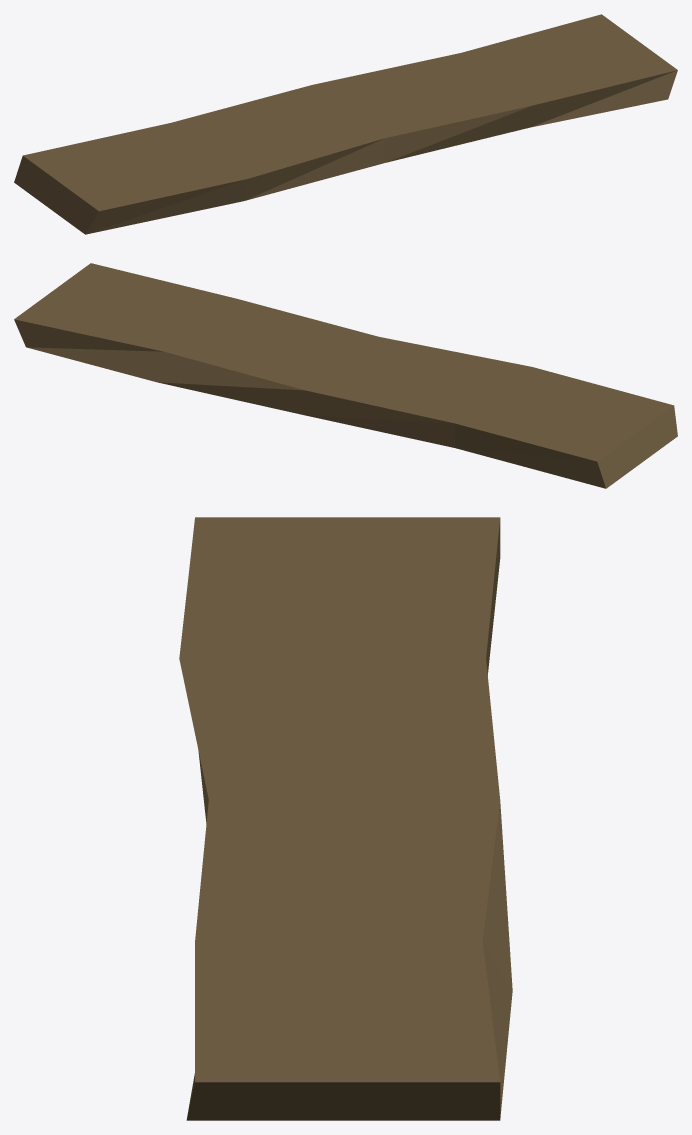
Rendered from Brett 3.fbx.
3 renders of one model, top to bottom at view 1: azimuth 30°, elevation 25°; view 2: azimuth 150°, elevation 25°; view 3: azimuth 270°, elevation 25°, orthographic. The views are drawn at different scales.
Visible parts, largest first — view 1: Würfel6_1; view 2: Würfel6_1; view 3: Würfel6_1.
Boxes of the visible parts, x1,y1,x2,y2 form: Würfel6_1: (14,14,677,234); Würfel6_1: (14,263,677,488); Würfel6_1: (179,517,512,1120).
Bounding box in the file's own units: 148 × 6 × 36.46.
